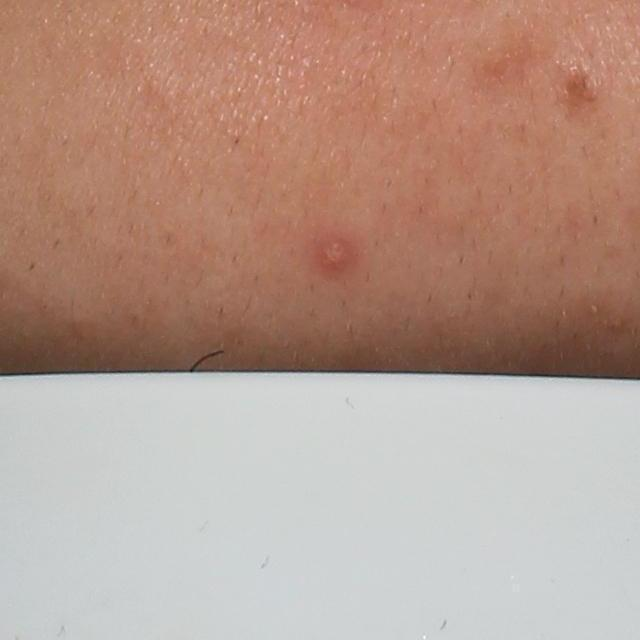papule: (311, 227, 362, 280)
